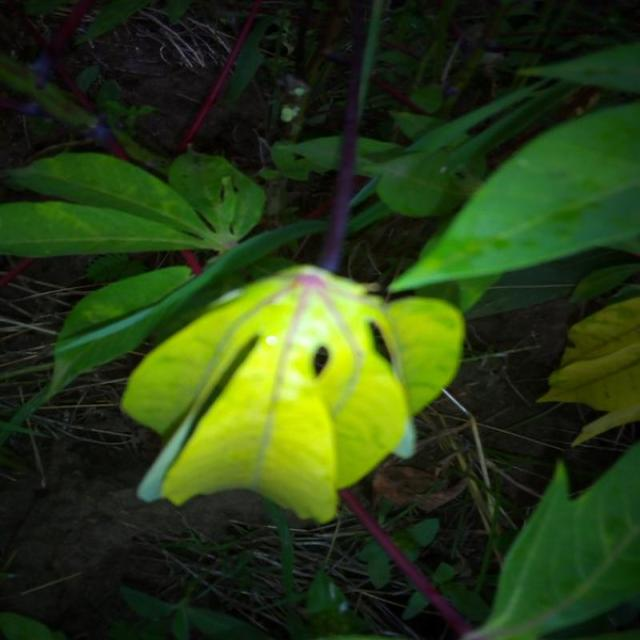cassava leaf: (119, 261, 464, 525), (385, 98, 638, 312)
